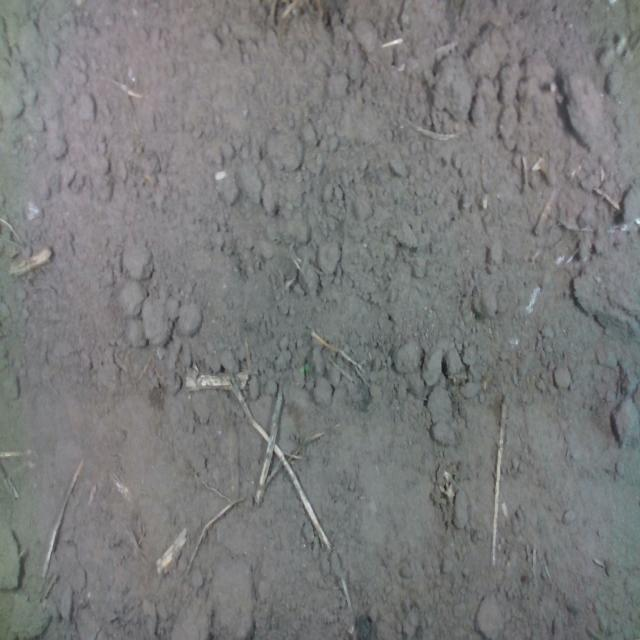weed: (298, 360, 310, 373)
